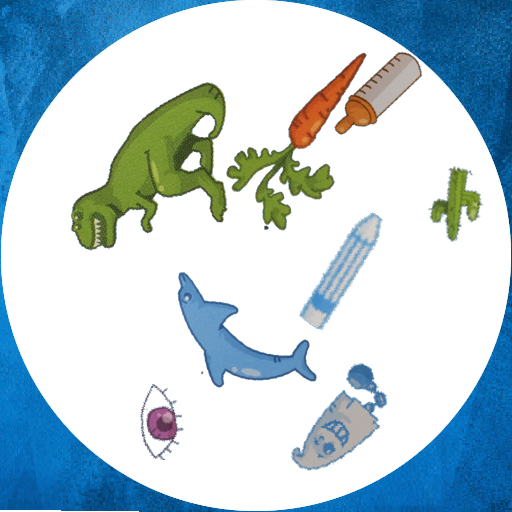bottle_icon: (321, 39, 432, 150)
cactus_icon: (419, 164, 497, 242)
carrot_icon: (198, 51, 379, 232)
dino_icon: (56, 62, 246, 252)
dolphin_icon: (153, 253, 322, 422)
eye_icon: (121, 384, 197, 460)
ghost_icon: (276, 359, 403, 486)
pen_icon: (280, 206, 408, 334)
